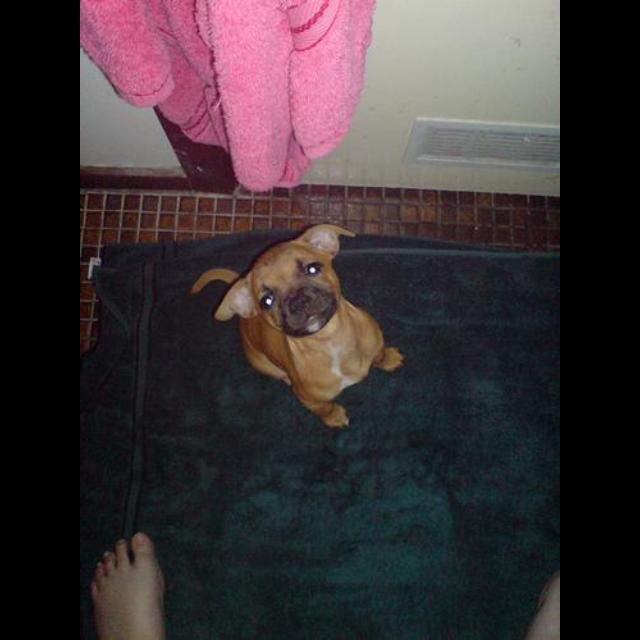staffford: (190, 223, 406, 431)
